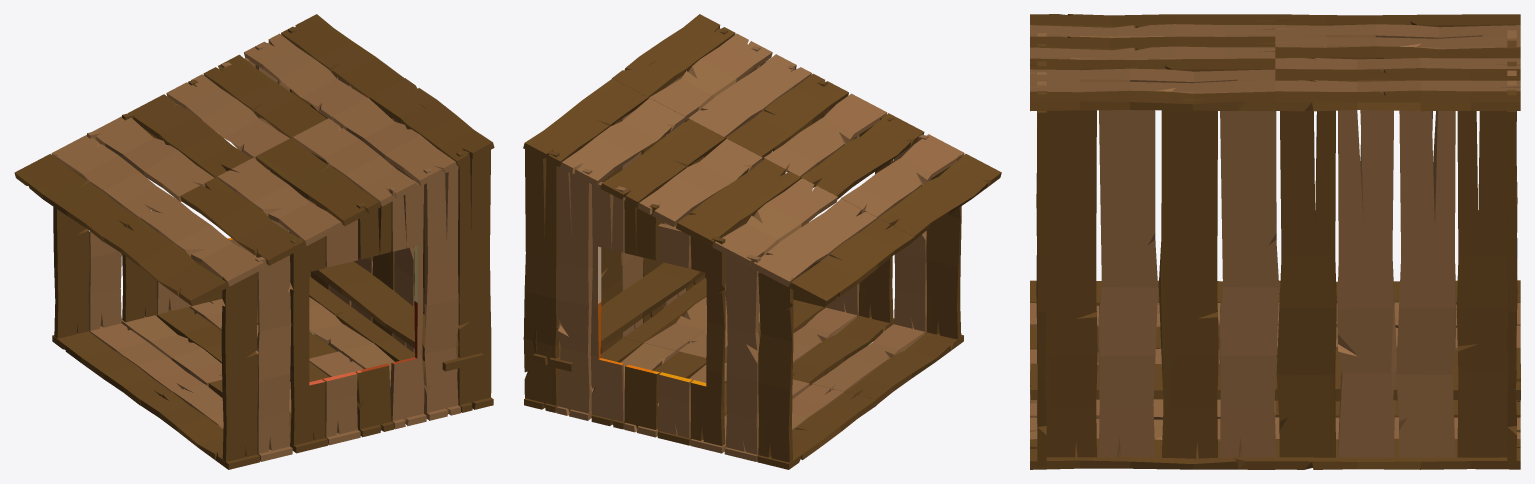
The model's file is Cabane.fbx.
3 renders of one model, left to right at view 1: azimuth 30°, elevation 25°; view 2: azimuth 150°, elevation 25°; view 3: azimuth 270°, elevation 25°, orthographic. The views are drawn at different scales.
Parts seen in each view (by area): view 1: Cabane; view 2: Cabane; view 3: Cabane.
Part boxes in pixels (x1,y1,x2,y2): Cabane: (14,14,494,469); Cabane: (523,14,1001,469); Cabane: (1030,14,1520,469).
Bounding box in the file's own units: 403 × 332 × 400.
